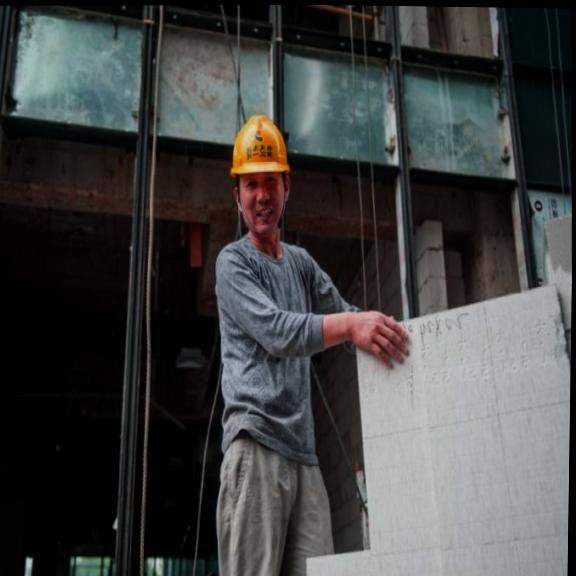no_safety_vest: (212, 228, 320, 483)
